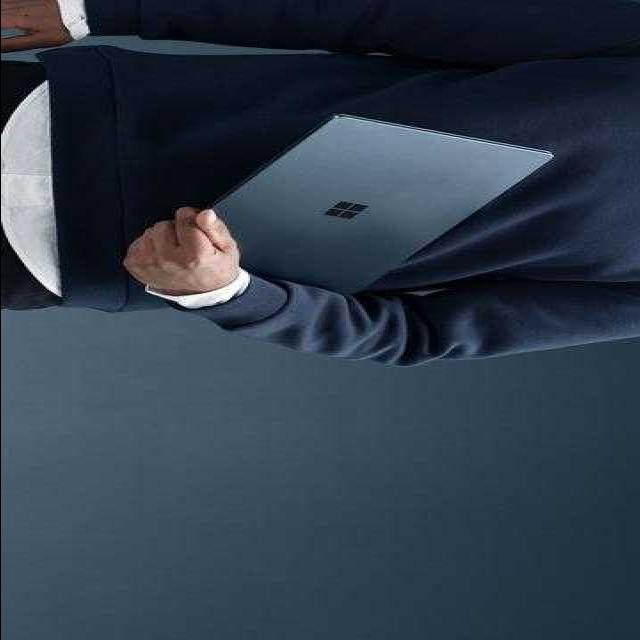laptop: (226, 113, 500, 294)
